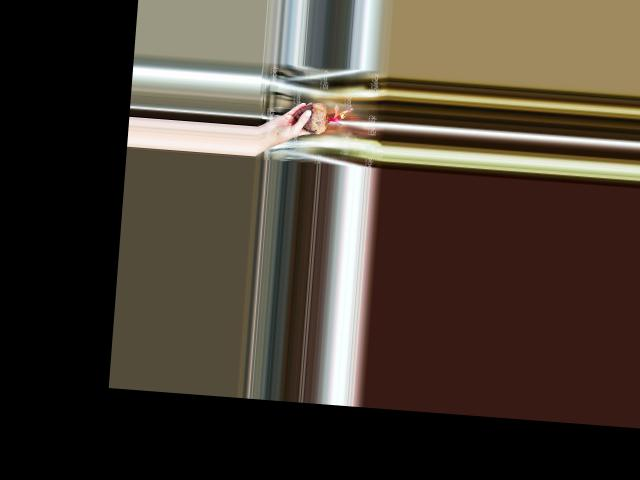beet: (292, 100, 352, 136)
